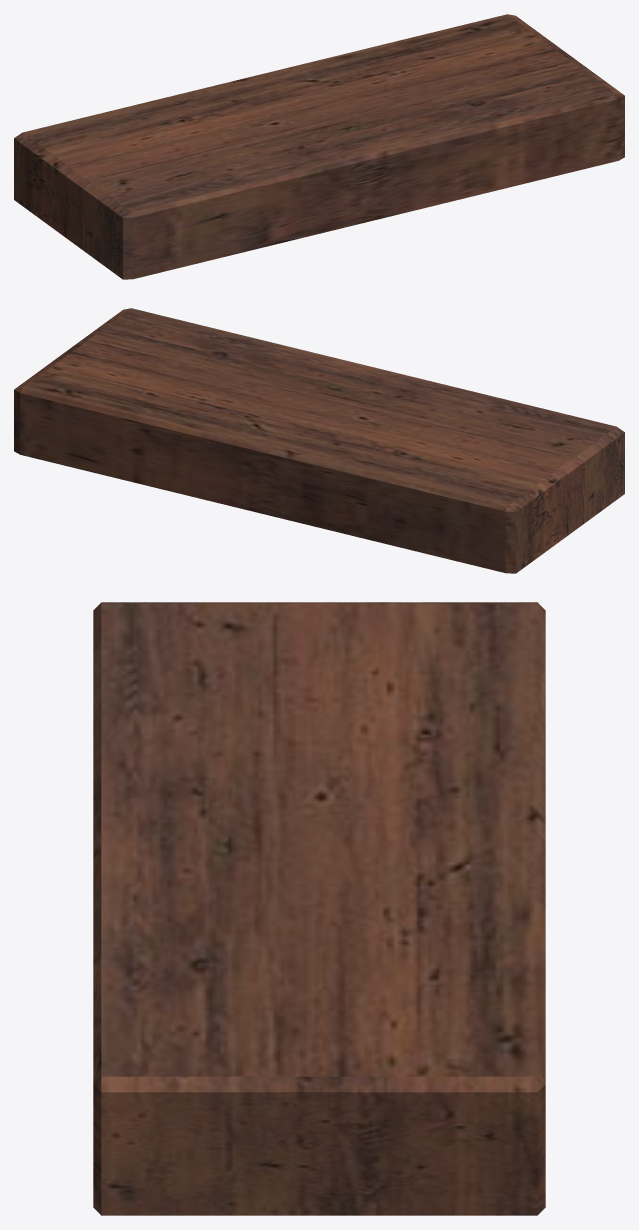
3 renders of one model, top to bottom at view 1: azimuth 30°, elevation 25°; view 2: azimuth 150°, elevation 25°; view 3: azimuth 270°, elevation 25°, orthographic. The views are drawn at different scales.
Parts seen in each view (by area): view 1: pCube535; view 2: pCube535; view 3: pCube535.
Part boxes in pixels (x1,y1,x2,y2): pCube535: (14, 14, 624, 279); pCube535: (14, 308, 624, 573); pCube535: (93, 602, 545, 1215).
Size of the model in its own units: 36.02 by 4.48 by 14.06.
